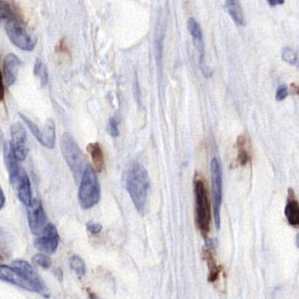Lymphocyte: (184, 168, 221, 240)
